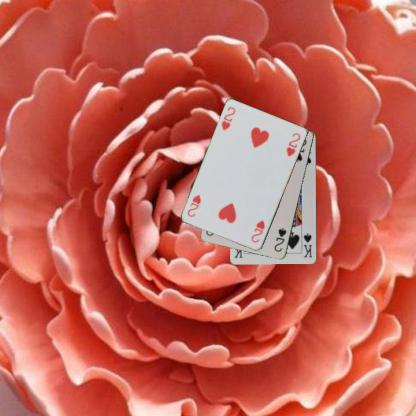2h: (219, 104, 237, 132), (248, 218, 266, 244)
2s: (272, 225, 288, 253)
Ks: (301, 230, 313, 259)
